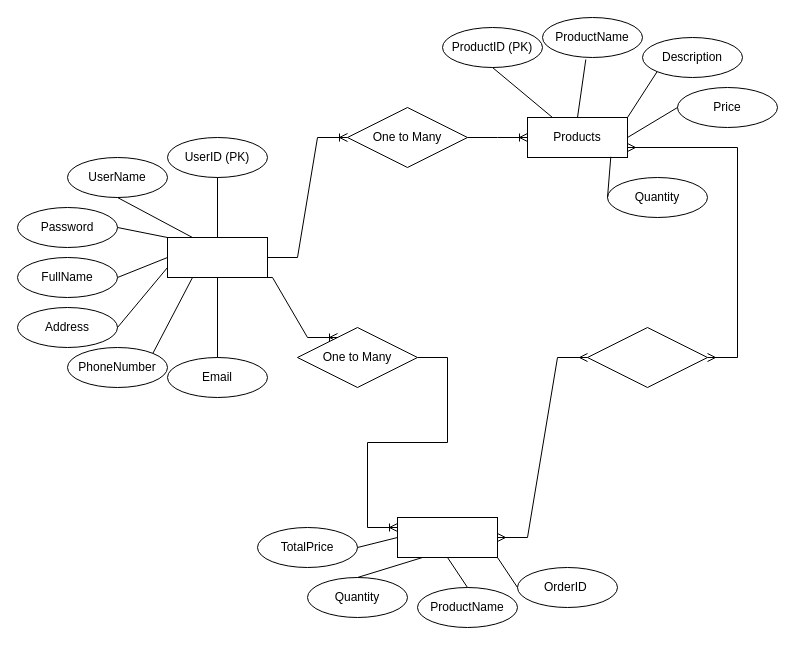
Image size: 795x645. Some labels were removed from this diagram. Here are the shapes that lost their labels. From the top down, the box of each, then its label:
(166, 236, 268, 278): Users
(586, 326, 708, 388): Many to Many
(396, 516, 498, 558): Orders
